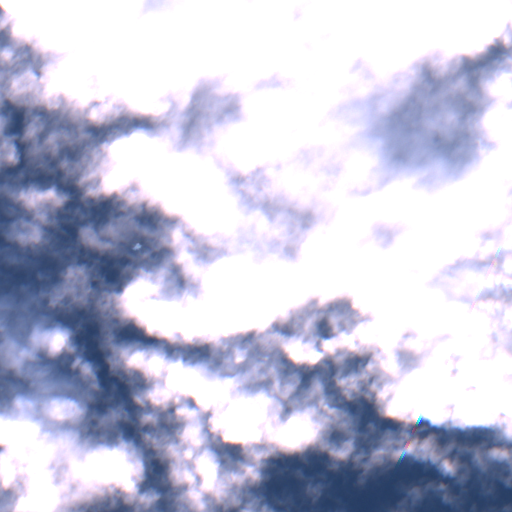Iceberg: (132, 243, 141, 249)
